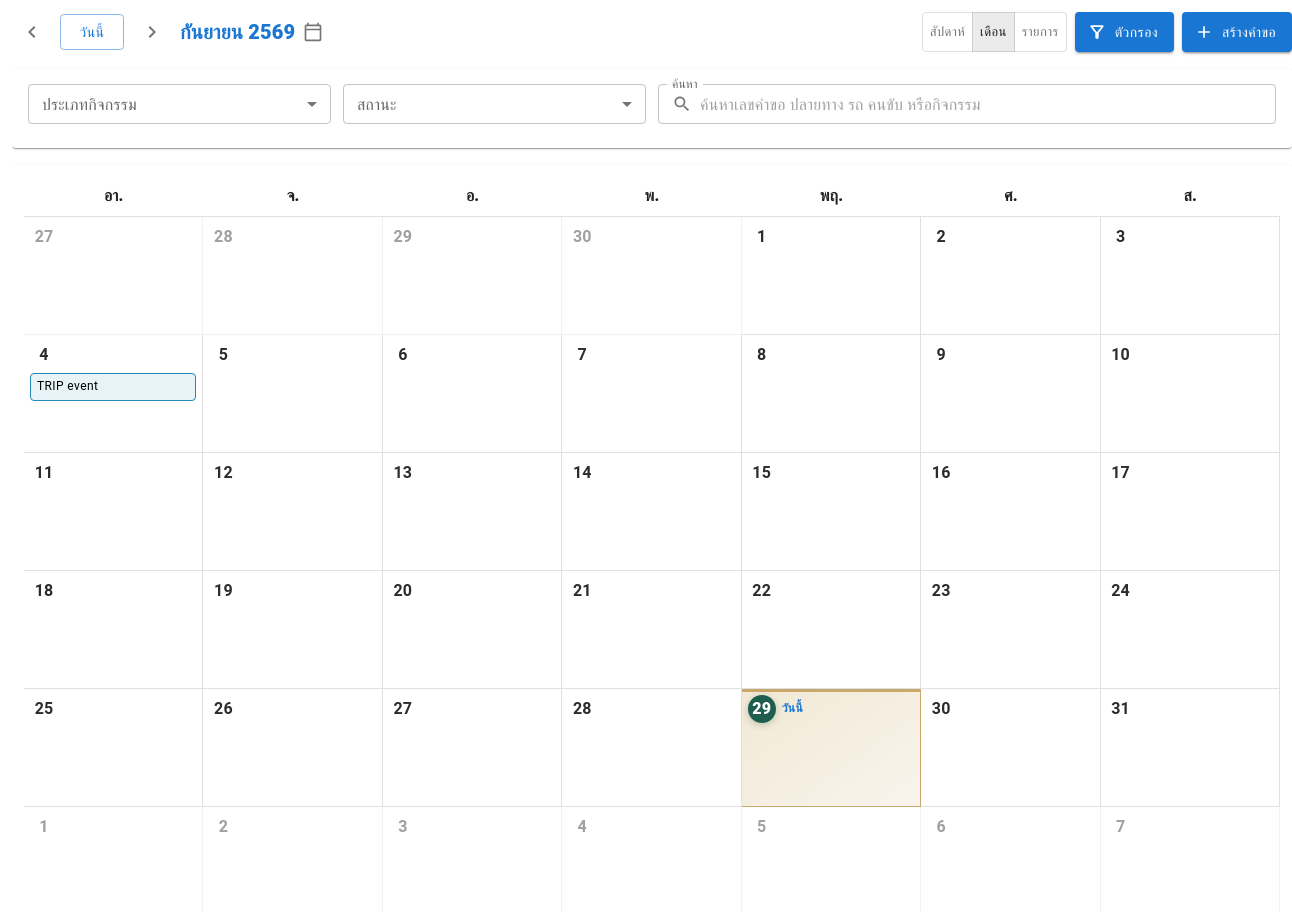
Test: FleetCalendarPage › shows an unfinished trip on its scheduled day in month view
Click the button "TRIP event": (113,387) [30, 373, 196, 400]
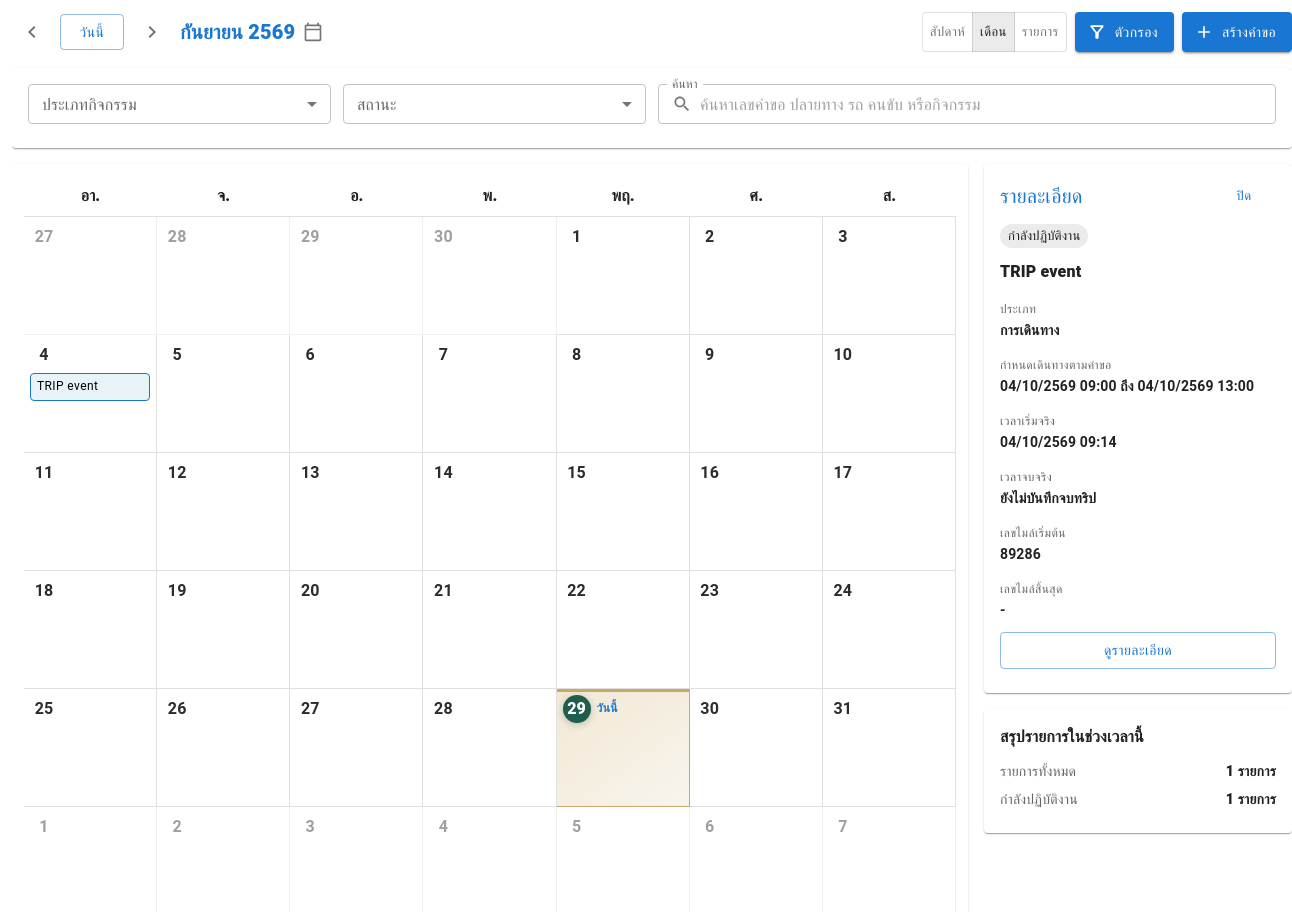
Now the text "กำหนดเดินทางตามคำขอ" is shown, box [1000, 358, 1112, 372]
Now the text "เวลาเริ่มจริง" is shown, box [1000, 414, 1055, 428]
Now the text "ยังไม่บันทึกจบทริป" is shown, box [1000, 490, 1096, 506]
